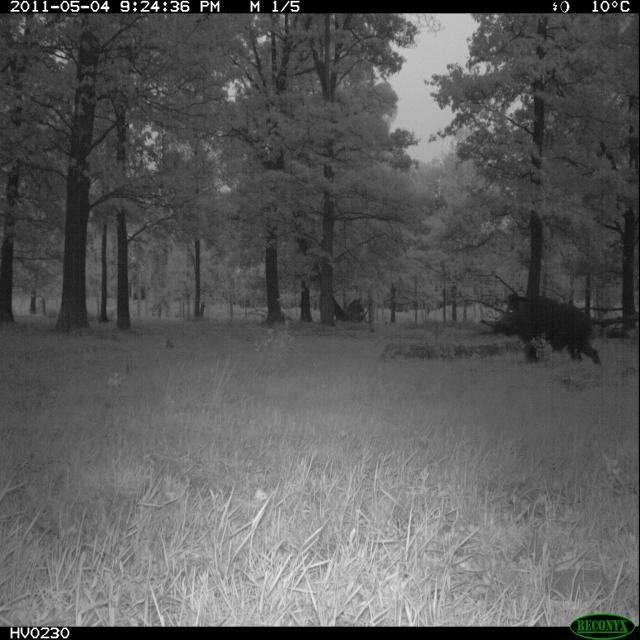boar: (468, 256, 619, 400)
